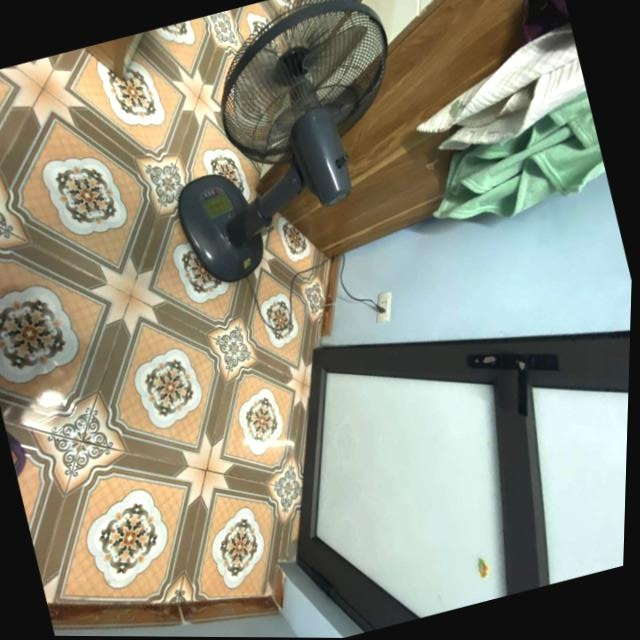outlet: (370, 290, 400, 325)
